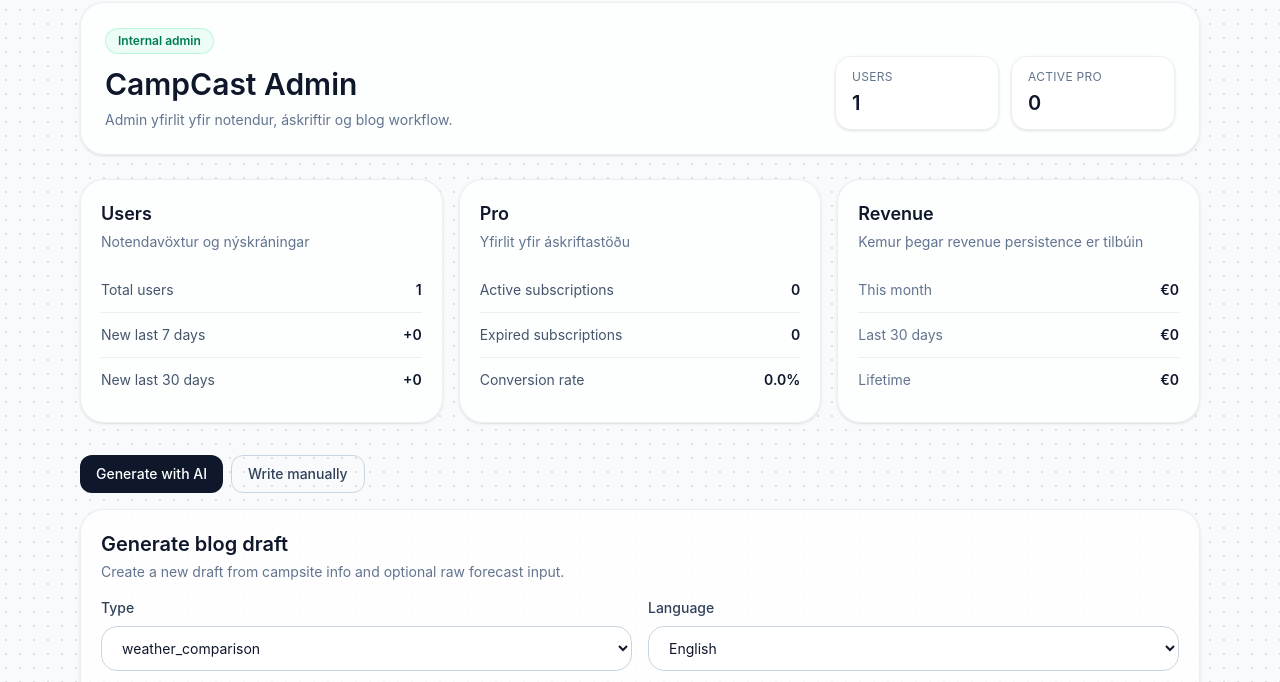
AdminDashboard — manual blog creation › preview toggle renders the content through the shared Markdown renderer
This screenshot has width=1280, height=682.
Click the button "Write manually". click: click(298, 474)
box: [231,455,365,493]
(page scrolled)
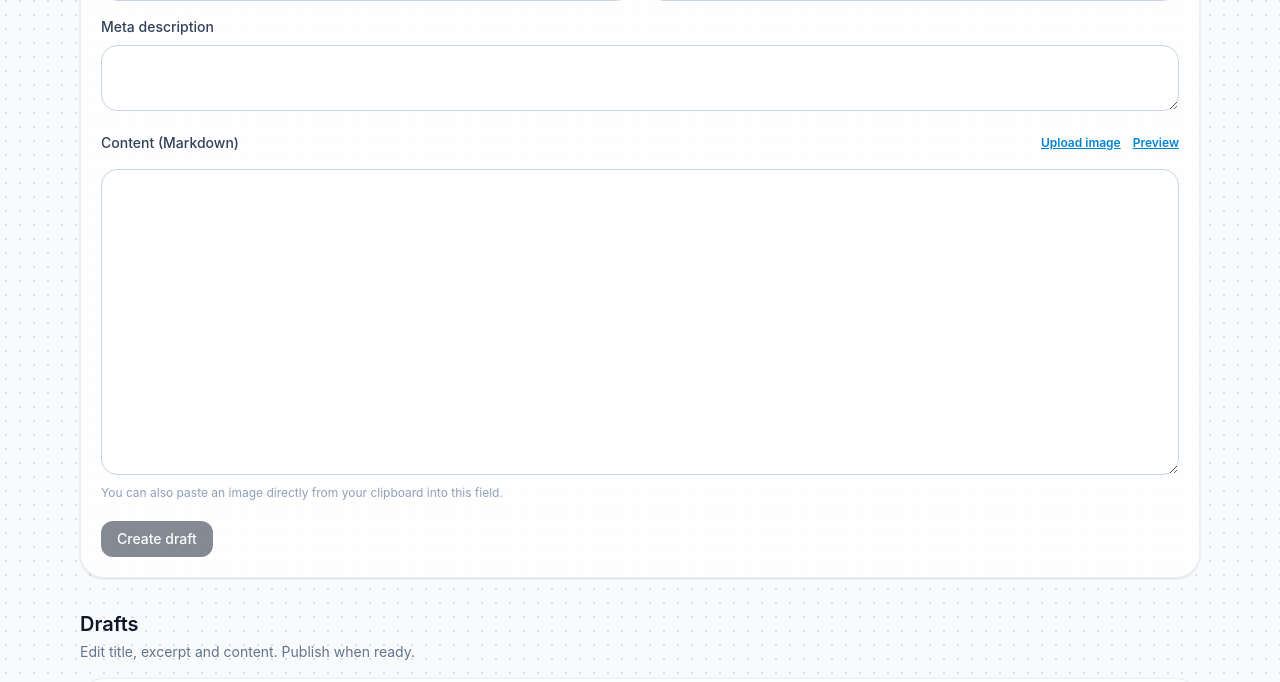
Type "# Hello preview" into the text box below "Content (Markdown)". click: (640, 322)
box: [101,169,1179,475]
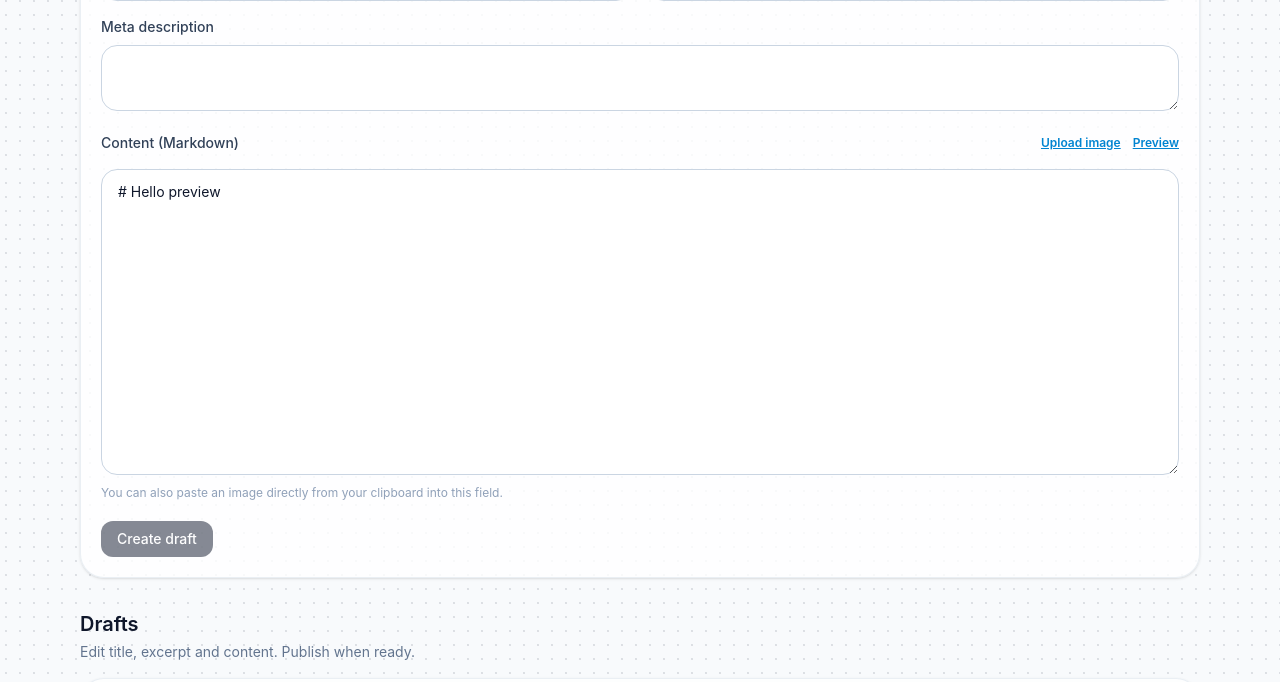
Click the button "Preview". click: click(1156, 143)
box: [1133,135,1179,151]
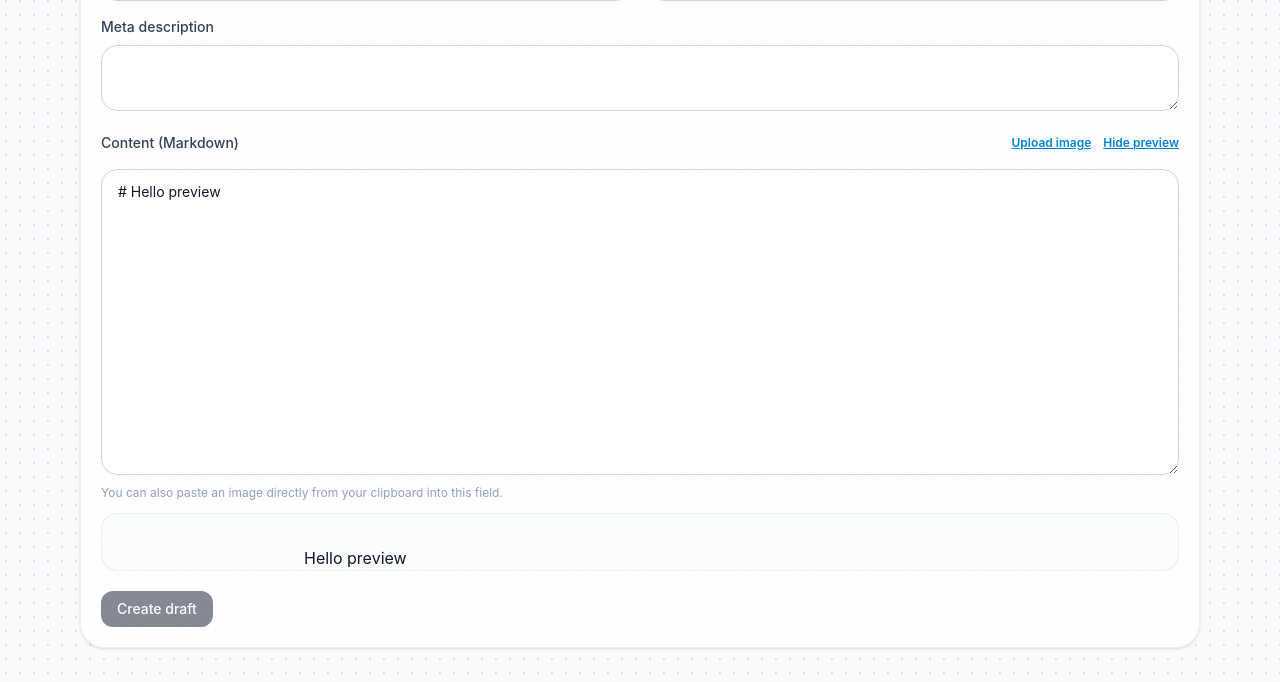
Check: the heading "Hello preview" is shown, box [304,548,407,568]
